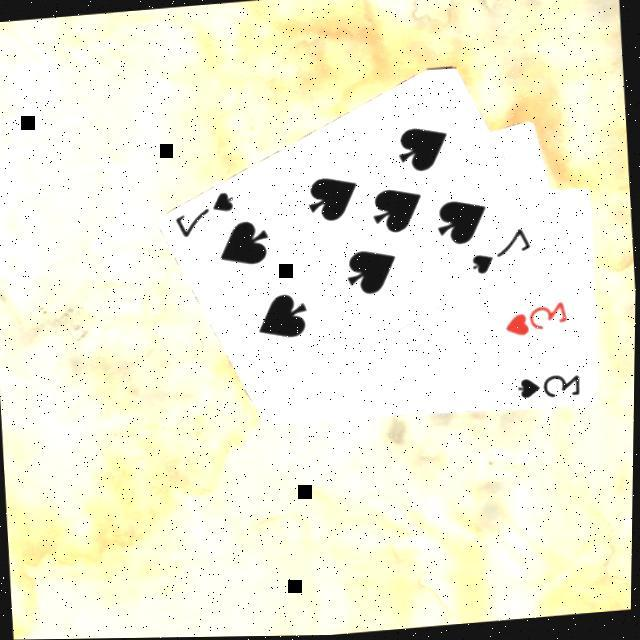3H: (502, 300, 572, 344)
3S: (516, 373, 586, 408)
7S: (170, 190, 242, 245), (469, 227, 539, 282)
